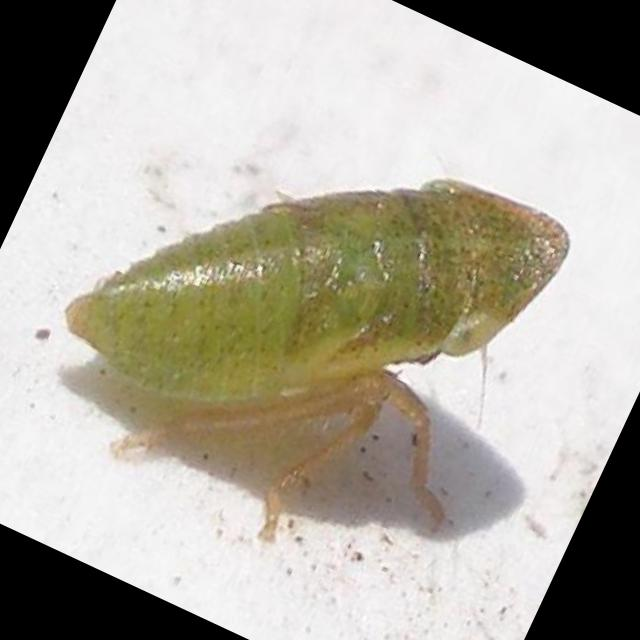green-leafhopper: (27, 61, 590, 610)
